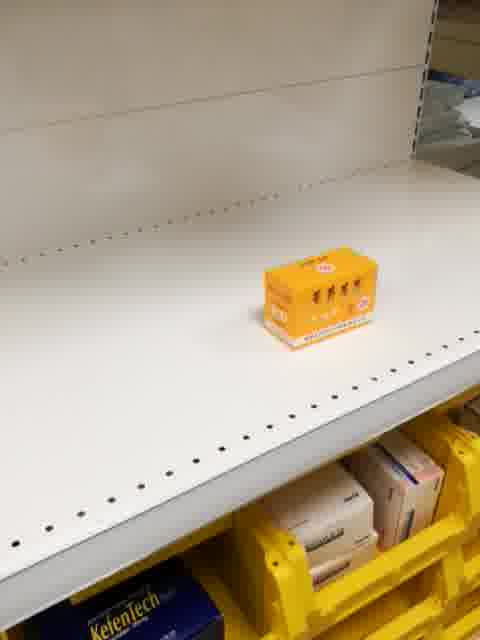jasminetea: (262, 246, 379, 353)
